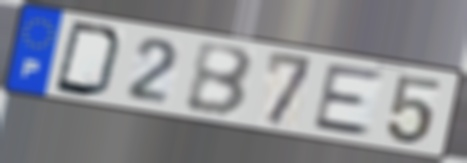2: (122, 36, 185, 107)
5: (383, 71, 445, 146)
7: (262, 48, 315, 129)
B: (183, 41, 256, 119)
D: (51, 18, 127, 100)
E: (309, 62, 388, 139)
